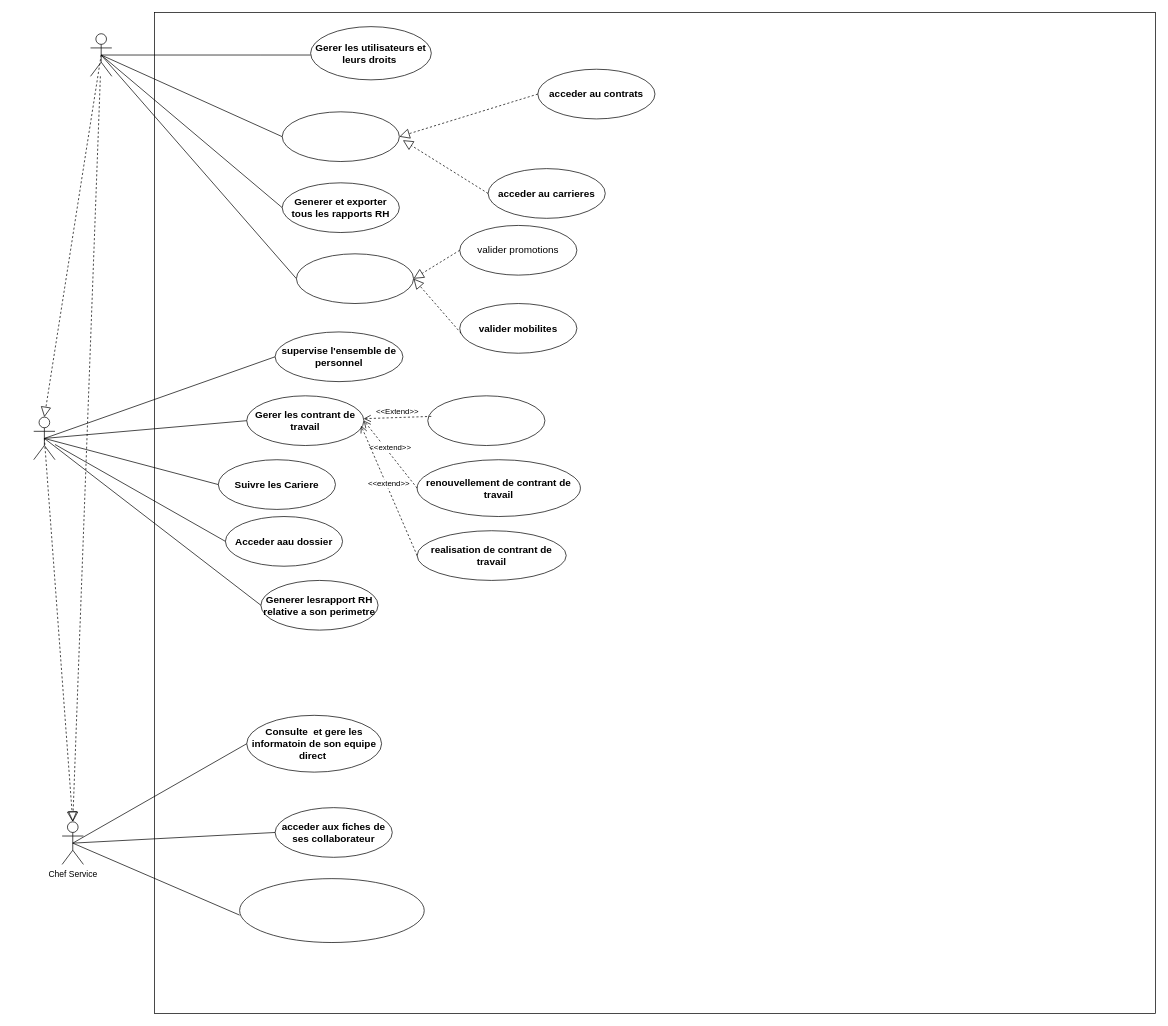
The diagram is 1168 pixels wide and 1026 high, and some of its shapes have lost their labels. Here are the shapes that lost their labels. From the top down, the centre of each, then its label:
At point 101,54: "Administrateur RH".
At point 340,136: "Acceder et modifier toutes les donnees RH".
At point 355,278: "Valider les decisions importantes".
At point 44,438: "Responsable RH".
At point 486,420: "creation de contrant de travail".
At point 331,910: "gerer les domande de conges et absences".
